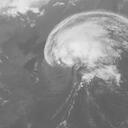cyclone: (44, 25, 122, 79)
